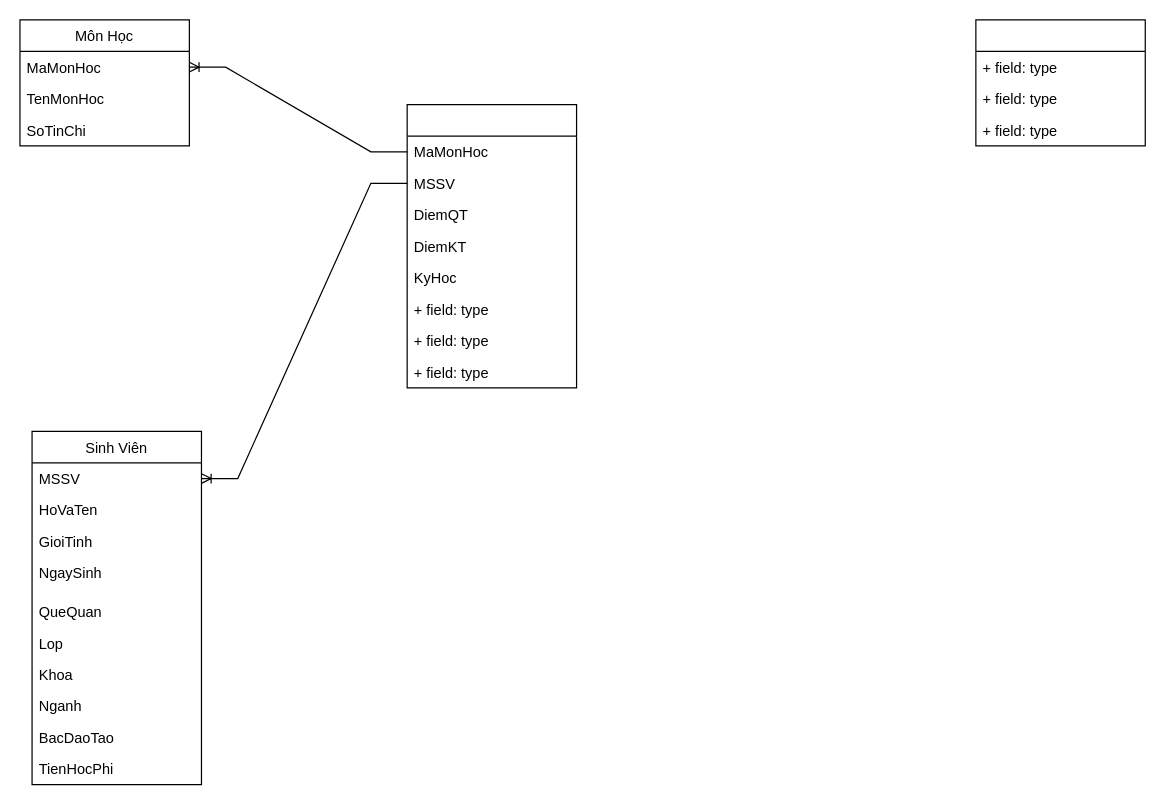
This 1165x805 diagram has some shape labels left out. The shapes that lost their labels are listed below. From the top down, each one's box as (x1, y1, x2, y2) in pixels, then its label:
(975, 19, 1145, 146): Classname
(406, 103, 577, 388): TinhDiem
